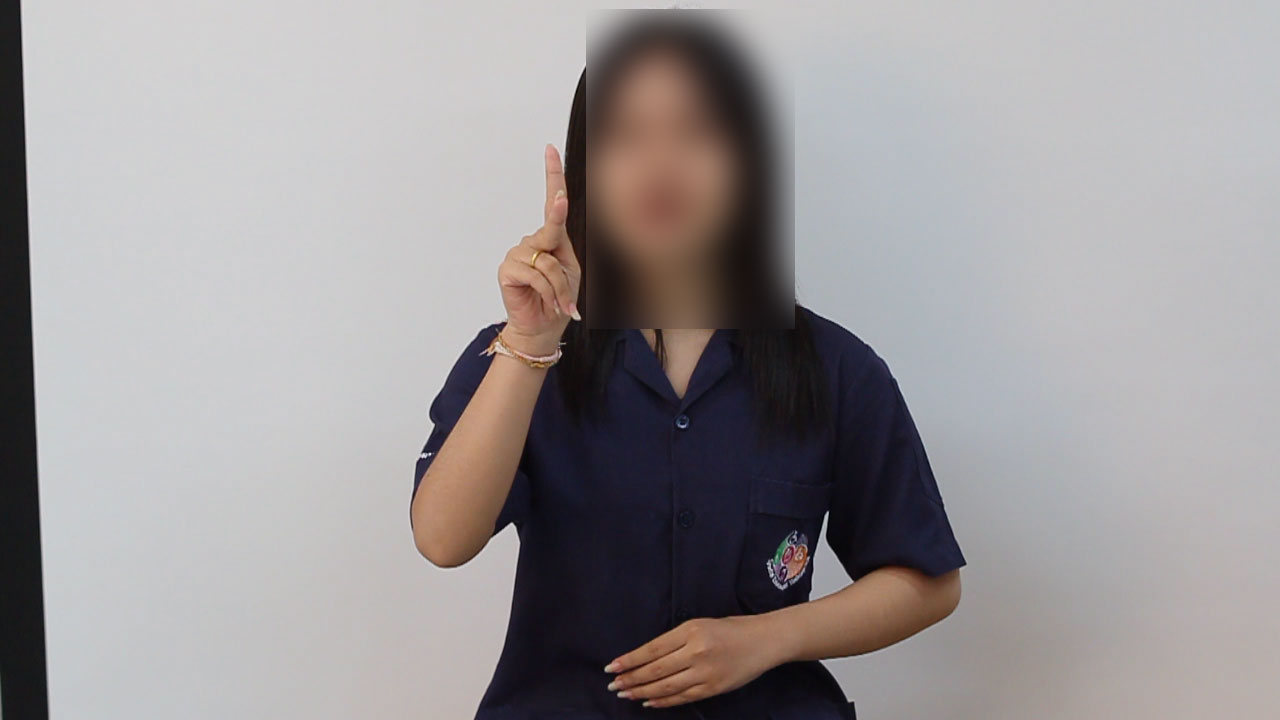ko: (440, 134, 618, 353)
